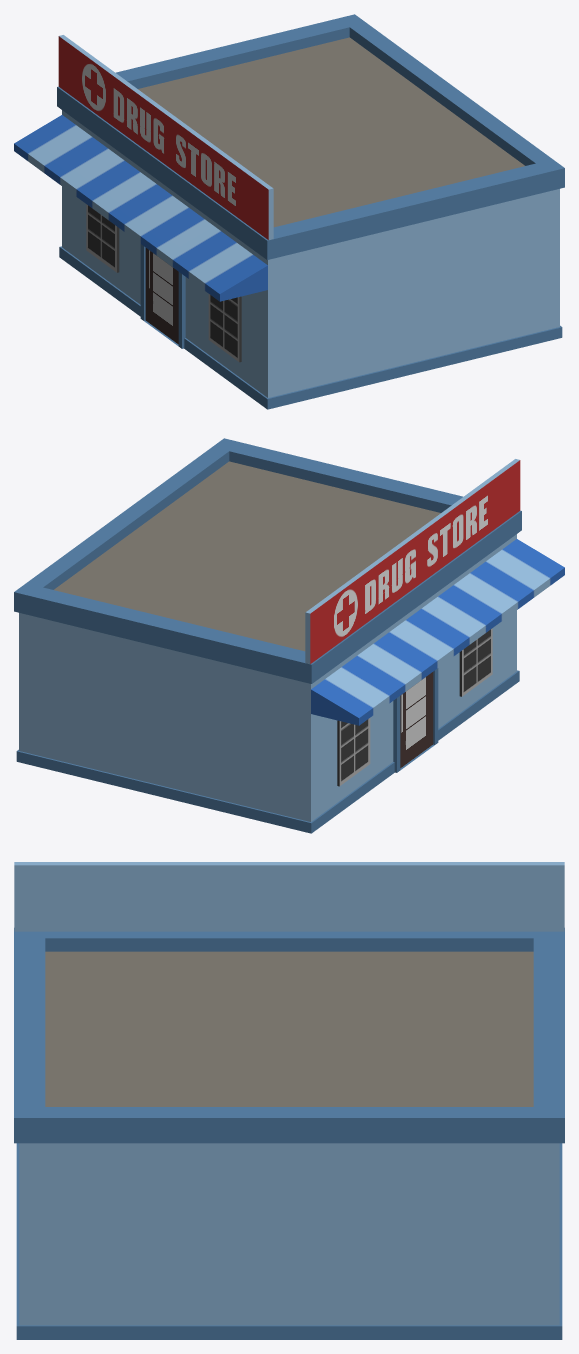
Rendered from building_2_1_1_1.glb.
3 renders of one model, top to bottom at view 1: azimuth 30°, elevation 25°; view 2: azimuth 150°, elevation 25°; view 3: azimuth 270°, elevation 25°, orthographic. The views are drawn at different scales.
Parts seen in each view (by area): view 1: Building_Drug Store.000_0.006; view 2: Building_Drug Store.000_0.006; view 3: Building_Drug Store.000_0.006.
Boxes of the visible parts, x1,y1,x2,y2 form: Building_Drug Store.000_0.006: (14,14,564,409); Building_Drug Store.000_0.006: (14,438,564,833); Building_Drug Store.000_0.006: (14,862,564,1339).
Bounding box in the file's own units: 10.57 × 6.5 × 11.22.
Materials: 1 (1 with a texture image).
